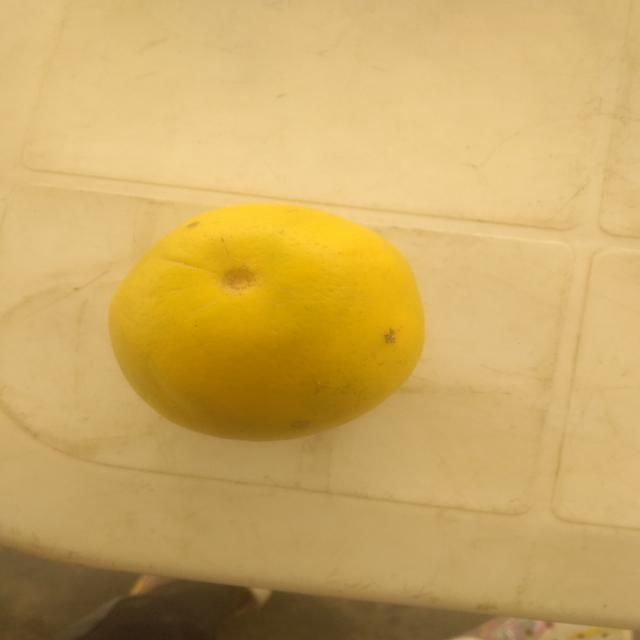Ripe orange: (97, 198, 444, 451)
